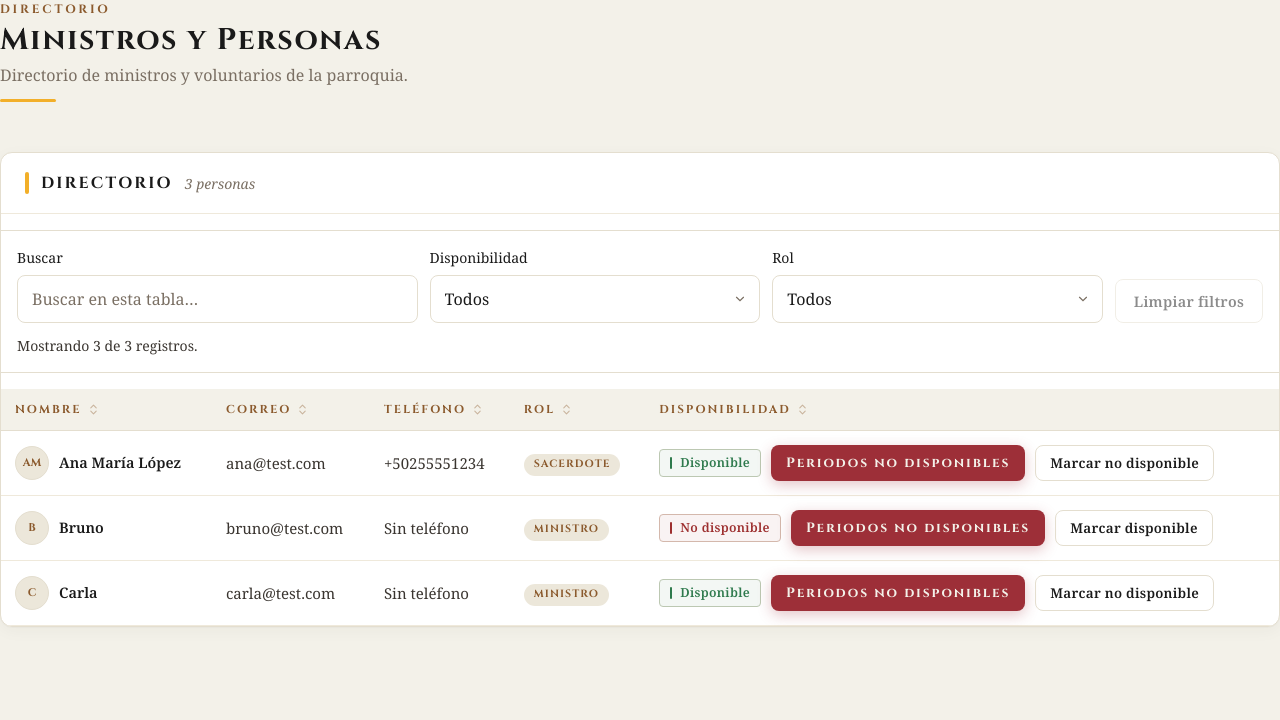
abre y cierra los periodos del ministro seleccionado desde el directorio
The width and height of the screenshot is (1280, 720).
Click the button "Periodos no disponibles" in the row of "carla@test.com": (898, 593) [771,575,1025,611]
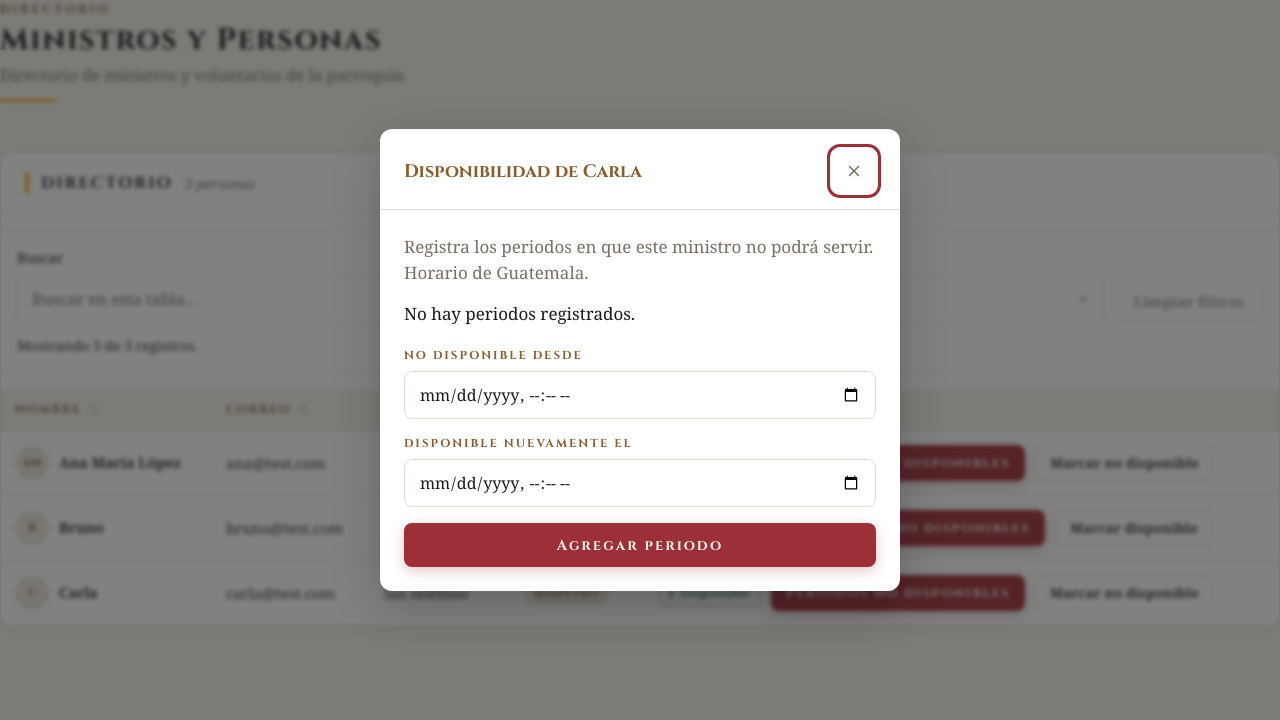
Now the dialog "Disponibilidad de Carla" is shown, box [380,129,900,591]
Now the text "No hay periodos registrados." is shown, box [404,302,635,325]
Press Escape
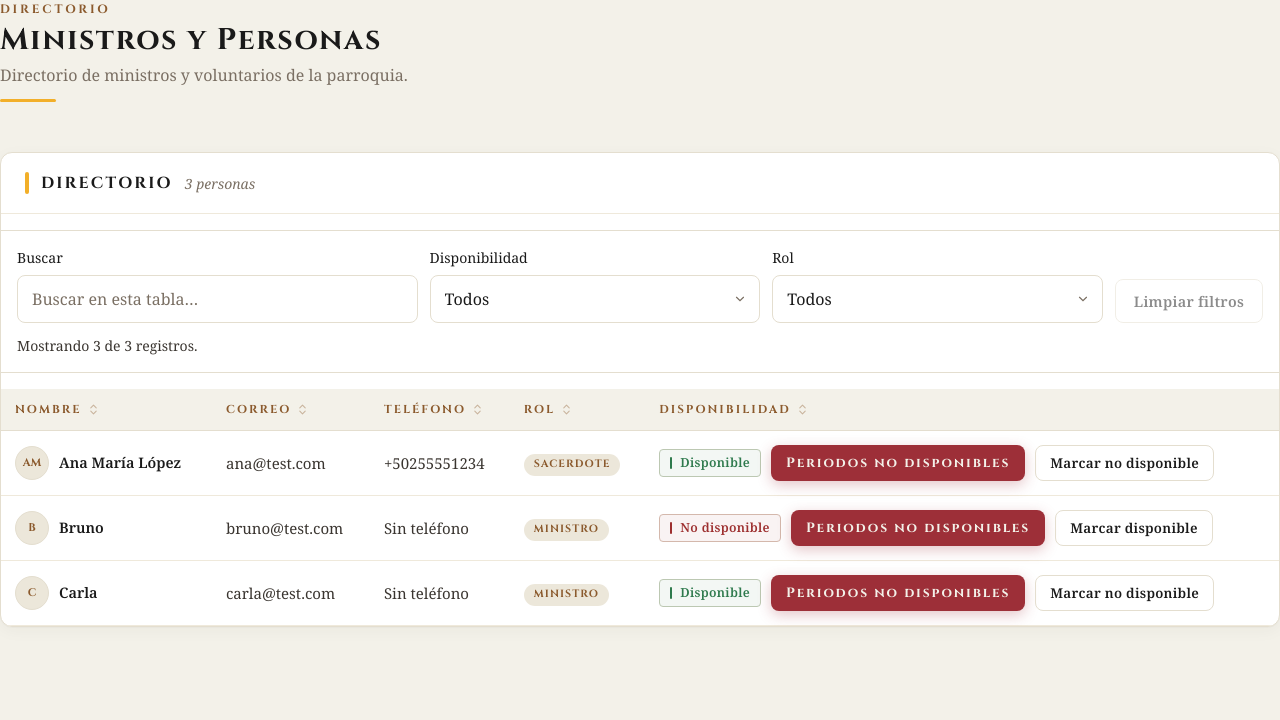
Now the dialog is gone
